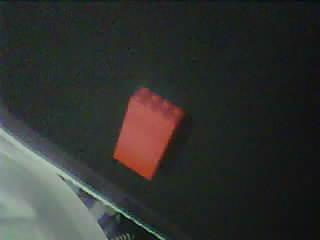lego: (112, 86, 186, 181)
